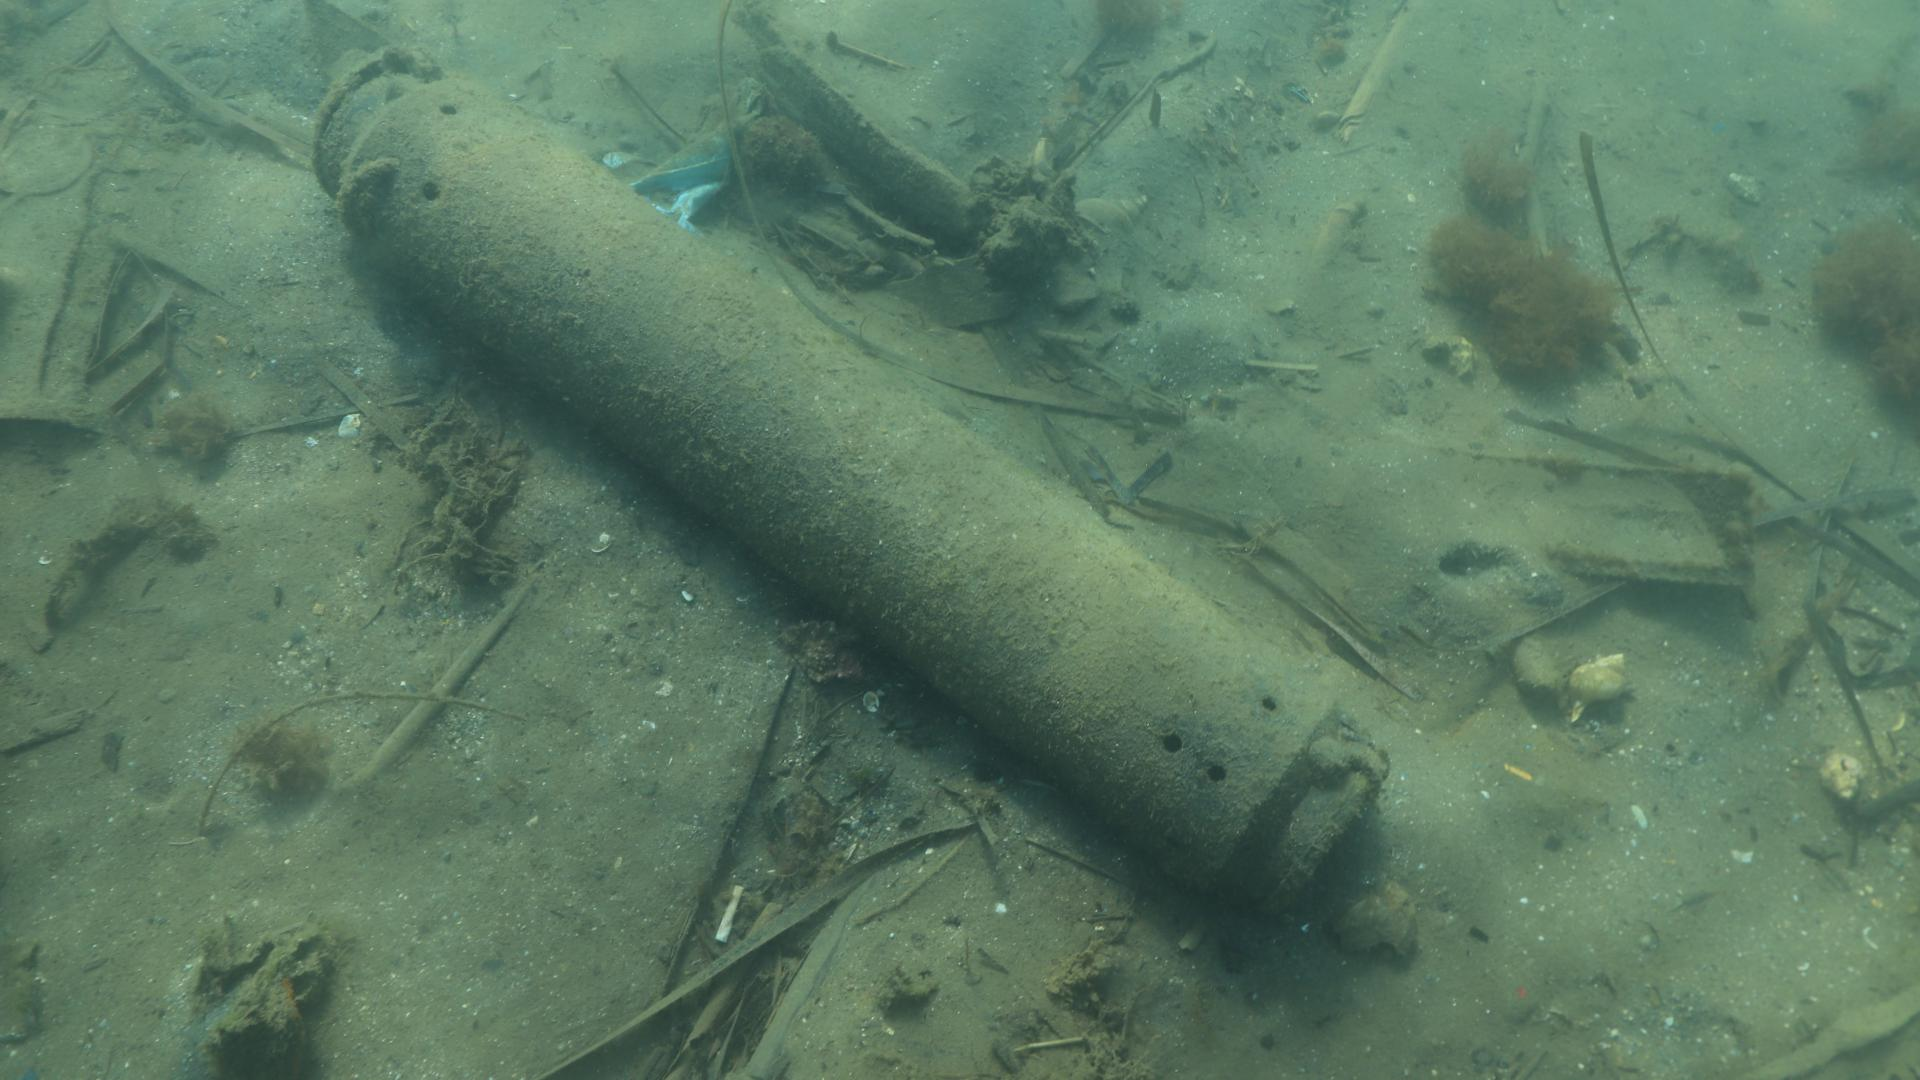eel fish trap: (309, 44, 1393, 924)
